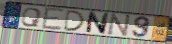9: (132, 15, 152, 39)
D: (62, 10, 87, 33)
E: (41, 6, 66, 31)
N: (106, 13, 132, 39), (85, 11, 111, 35)
Q: (20, 7, 43, 28)
